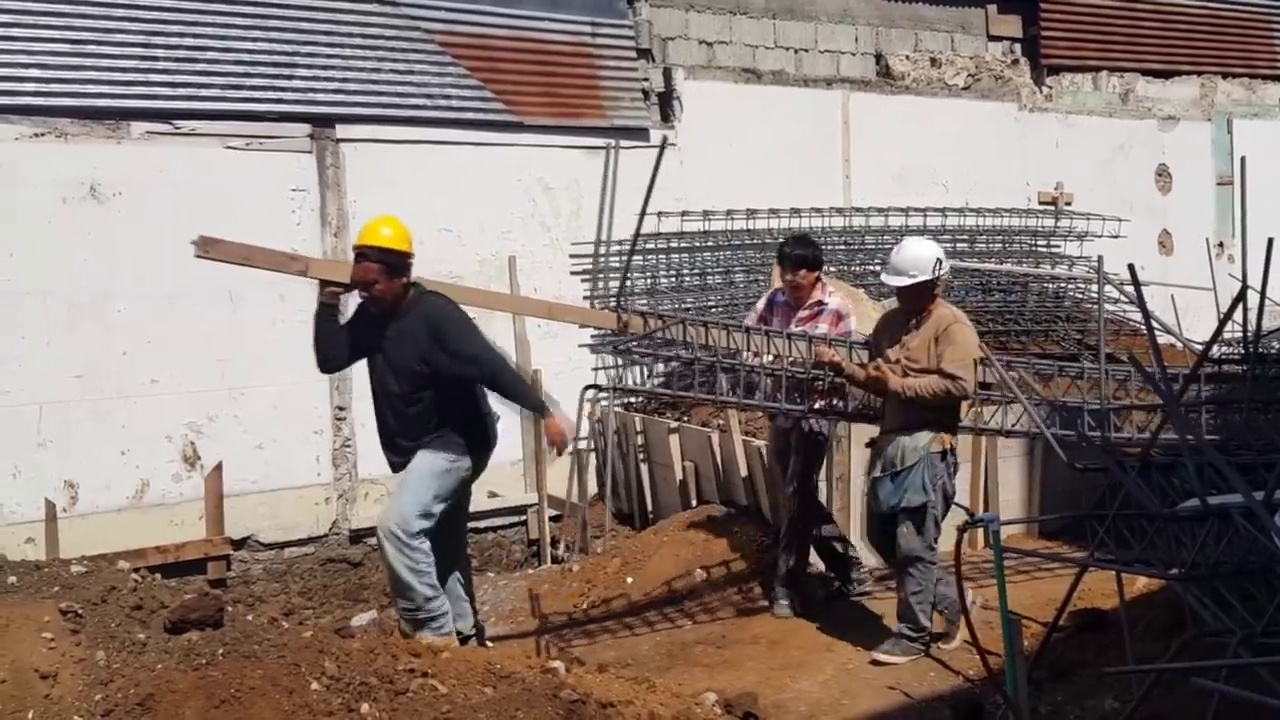helmet: (343, 209, 421, 263), (881, 232, 951, 288)
helmet-off: (775, 239, 829, 307)
helmet-on: (342, 219, 417, 314), (881, 232, 955, 322)
person: (328, 209, 561, 679), (834, 222, 975, 680), (745, 232, 862, 587)
